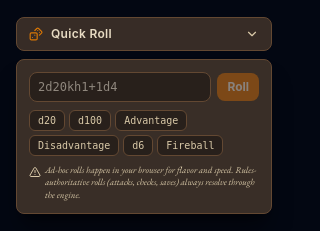
DiceRollerPanel › collapsing hides the body entirely
What coordinates should you click on to do the following:
click the button "Quick Roll"
I would click on:
 (144, 34)
Its box is [16,17,272,51].
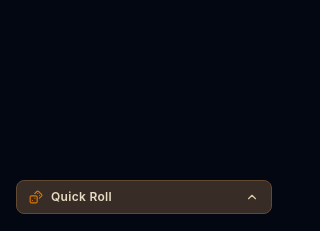
Now the element with test id "dice-roller-body" is gone
